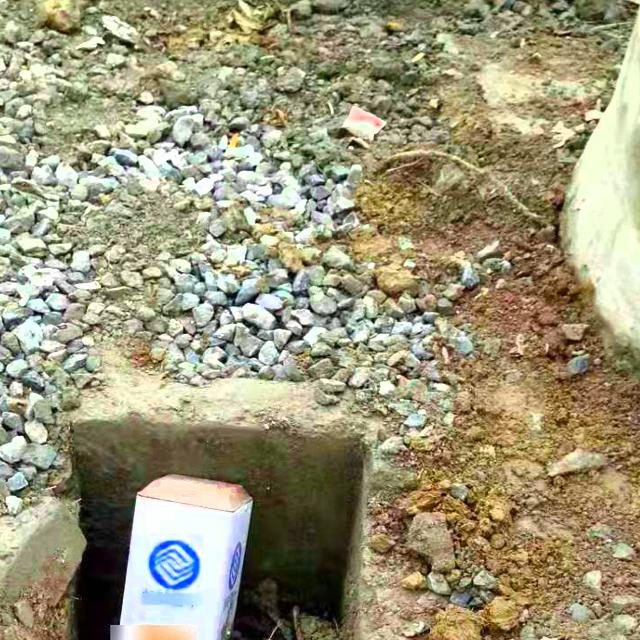lose: (0, 412, 384, 640)
